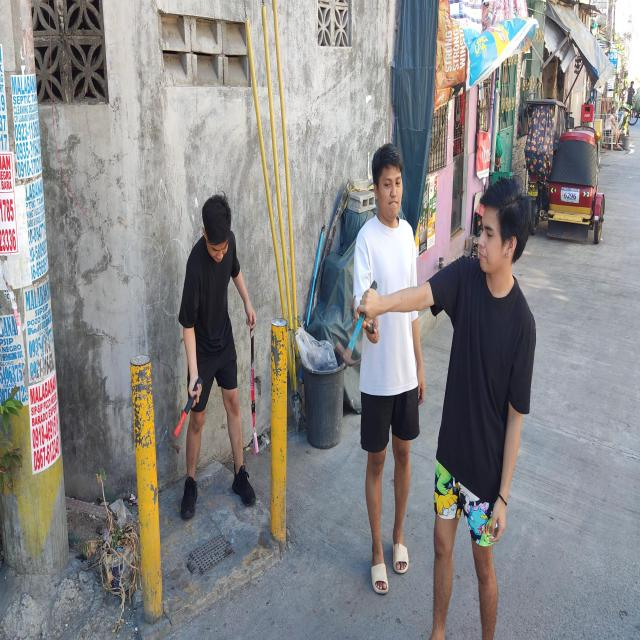hammer: (335, 280, 377, 366), (168, 375, 202, 453), (349, 295, 374, 335)
